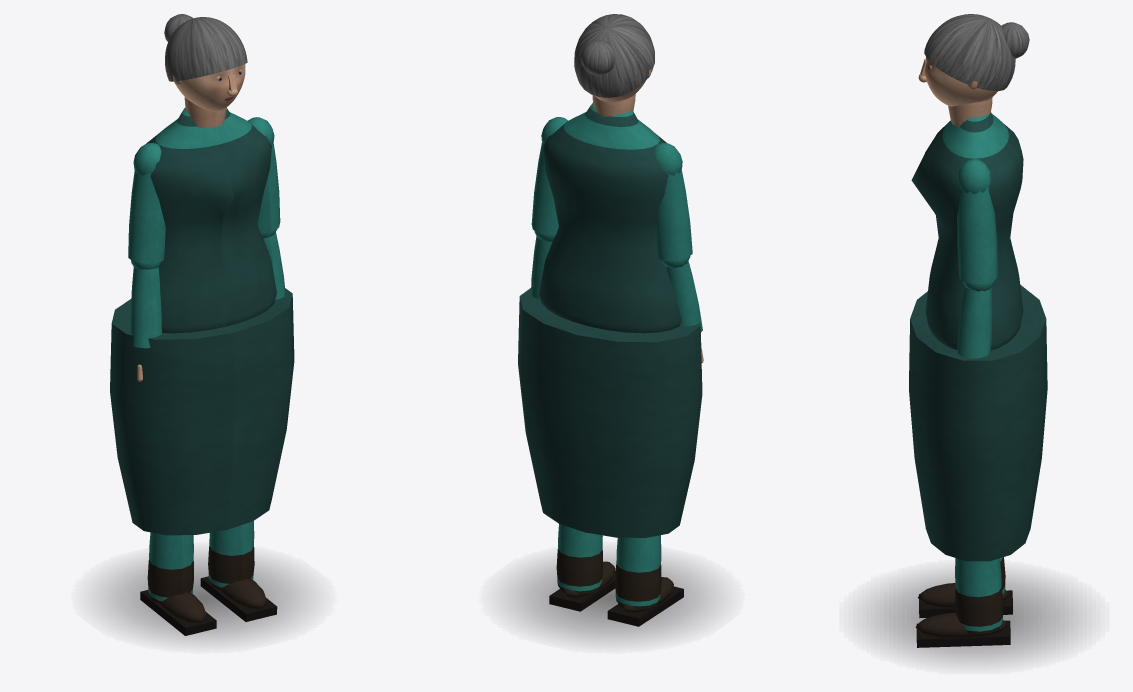
The model's file is npc_overseer.glb.
3 views of the same model, side by side, from view 1: azimuth 30°, elevation 25°; view 2: azimuth 150°, elevation 25°; view 3: azimuth 270°, elevation 25° (orthographic). The views are drawn at different scales.
Parts seen in each view (by area): view 1: object 7, chest, object 12, head, shinL, shinR, armL, foreL, armR, foreR; view 2: object 7, chest, object 12, head, shinL, shinR, armL, armR, foreL, foreR; view 3: object 7, chest, object 12, head, shinR, armR, foreR, shinL.
Boxes of the visible parts, <box> form: object 7: <box>110,288,294,535</box>; chest: <box>146,97,276,333</box>; object 12: <box>97,553,309,642</box>; head: <box>164,14,247,111</box>; shinL: <box>140,532,216,635</box>; shinR: <box>200,521,277,621</box>; armL: <box>128,143,165,263</box>; foreL: <box>130,260,161,381</box>; armR: <box>247,117,280,233</box>; foreR: <box>261,228,285,299</box>; object 7: <box>518,288,702,537</box>; chest: <box>539,94,681,333</box>; object 12: <box>506,553,718,642</box>; head: <box>574,14,654,102</box>; shinL: <box>607,535,683,626</box>; shinR: <box>549,524,615,611</box>; armL: <box>654,143,692,261</box>; armR: <box>531,117,568,235</box>; foreL: <box>661,256,703,362</box>; foreR: <box>531,230,555,299</box>; object 7: <box>909,285,1047,561</box>; chest: <box>911,97,1023,350</box>; object 12: <box>866,571,1082,662</box>; head: <box>918,14,1029,106</box>; shinR: <box>915,558,1010,647</box>; armR: <box>957,159,997,284</box>; foreR: <box>957,281,994,358</box>; shinL: <box>918,557,1012,617</box>.
Size of the model in its own units: 0.77 by 1.79 by 0.77.
Materials: 7 (6 with a texture image).
